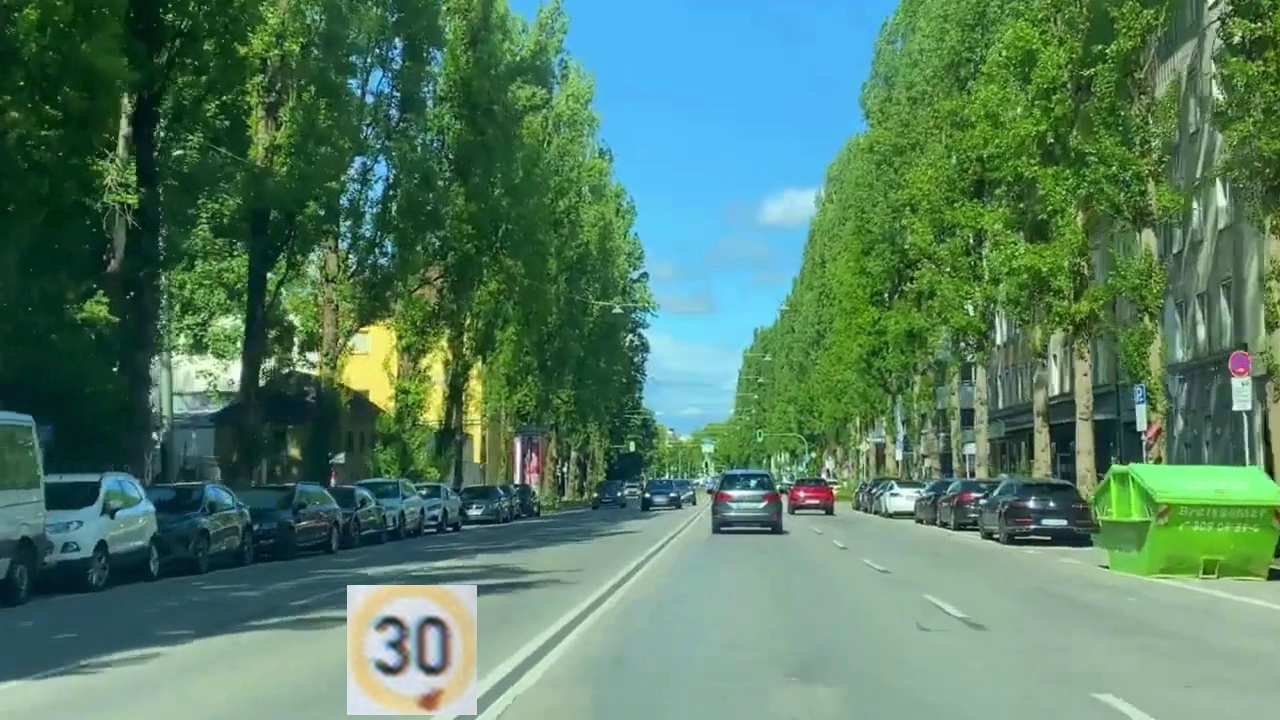Speed 30: (347, 585, 477, 715)
